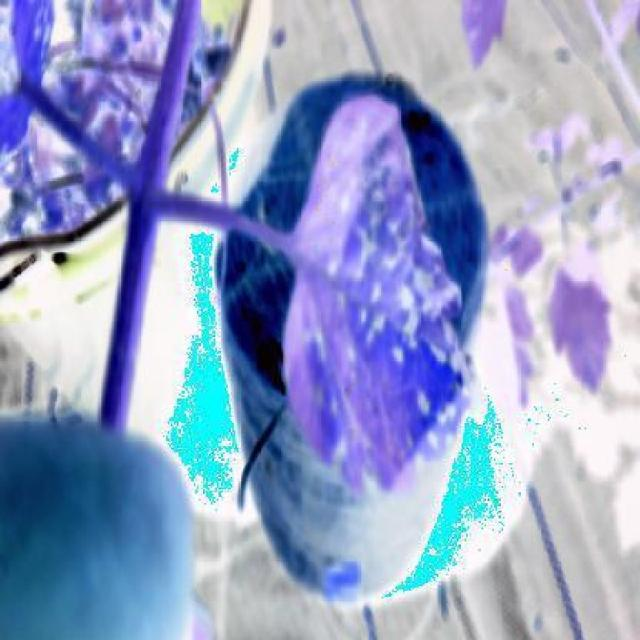Septoria leaf spot: (268, 86, 483, 542)
